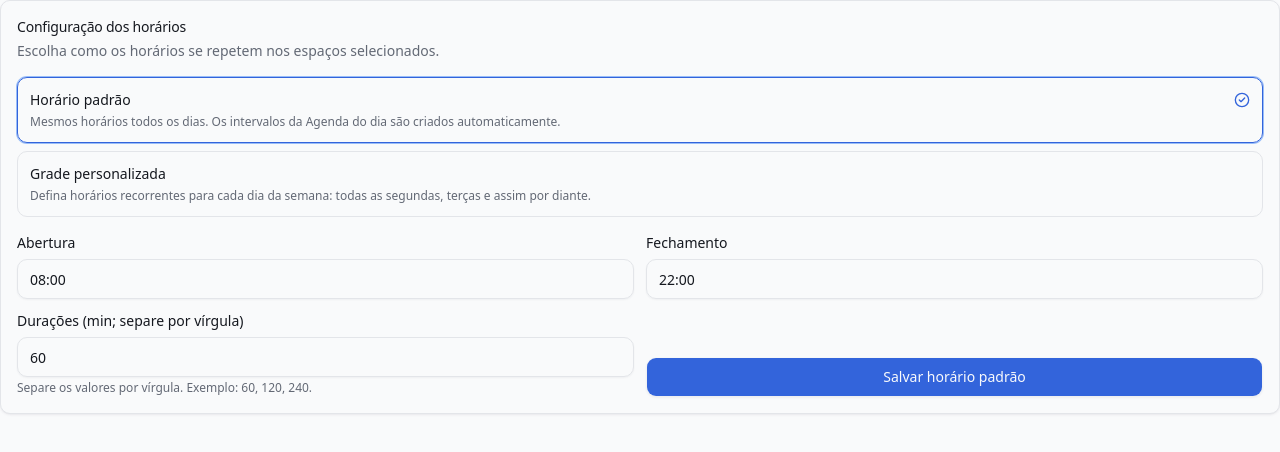
SchedulePolicyPanel › does not save an invalid duration list
Replace the text in the field labelled "Durações (min; separe por vírgula)" with "30,nope": (326, 357) [17,337,634,377]
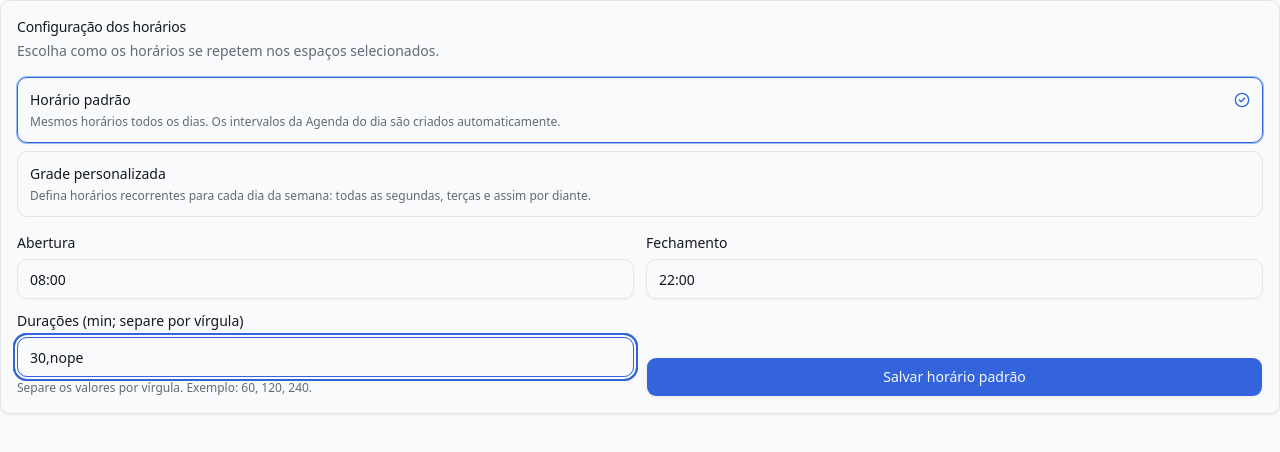
Click the button "Salvar horário padrão": (954, 377) [646,357,1263,397]
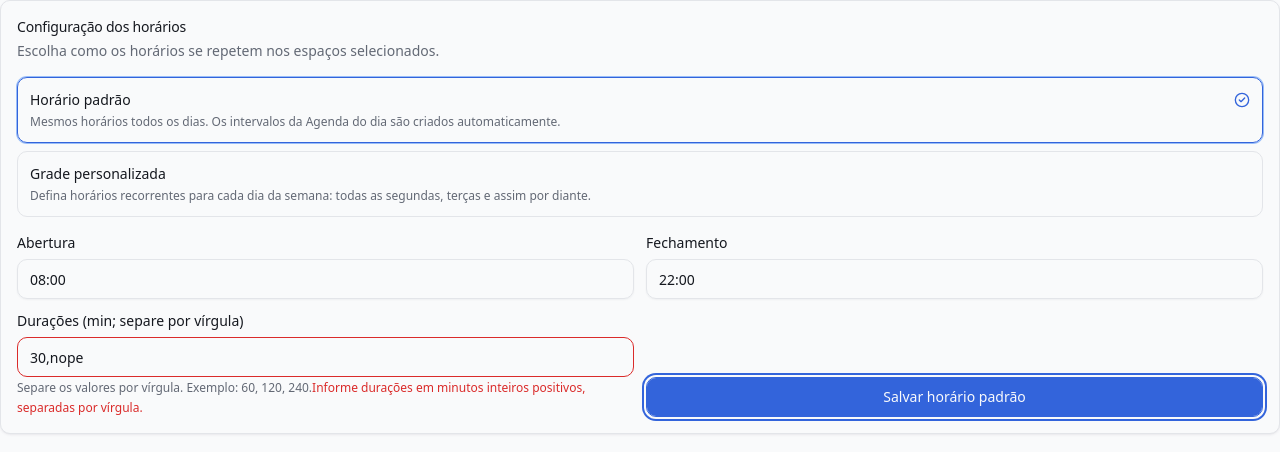
expect the message reads "Informe durações em minutos inteiros positivos, separadas por vírgula.": met, box [17,379,585,416]
